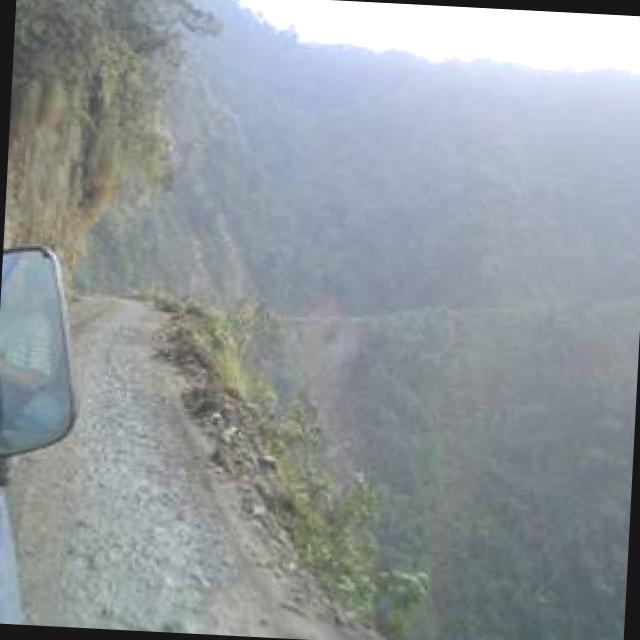Vehicle: (0, 152, 95, 627)
